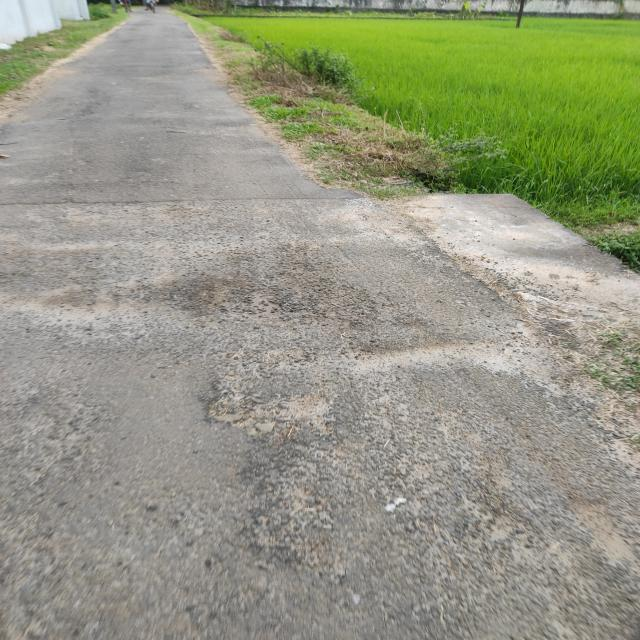potholes: (196, 378, 324, 439)
